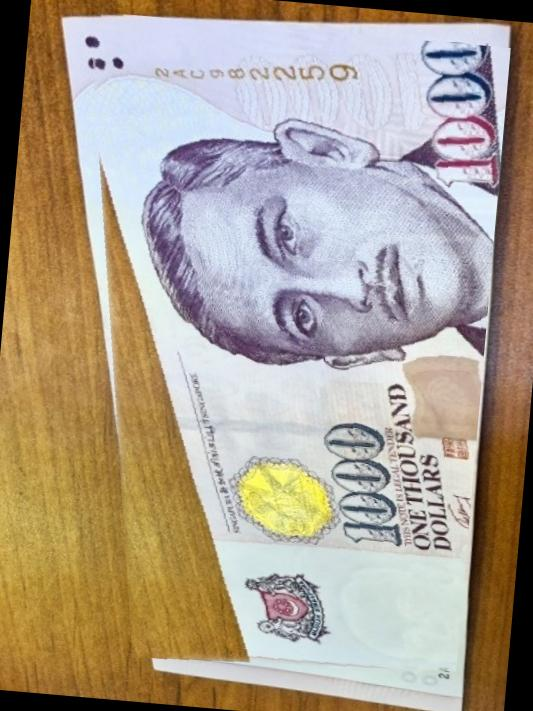1000SingaporeDollar: (33, 10, 510, 684)
